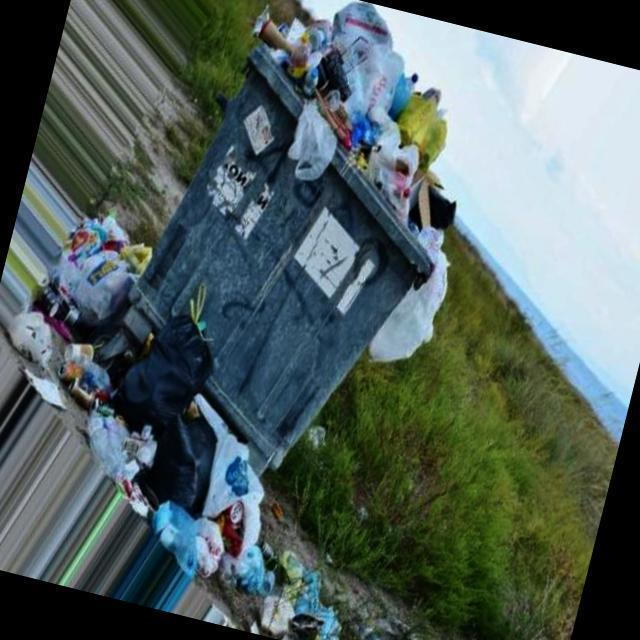garbage: (60, 277, 296, 518), (229, 0, 478, 205), (150, 482, 348, 632), (23, 208, 139, 402)
